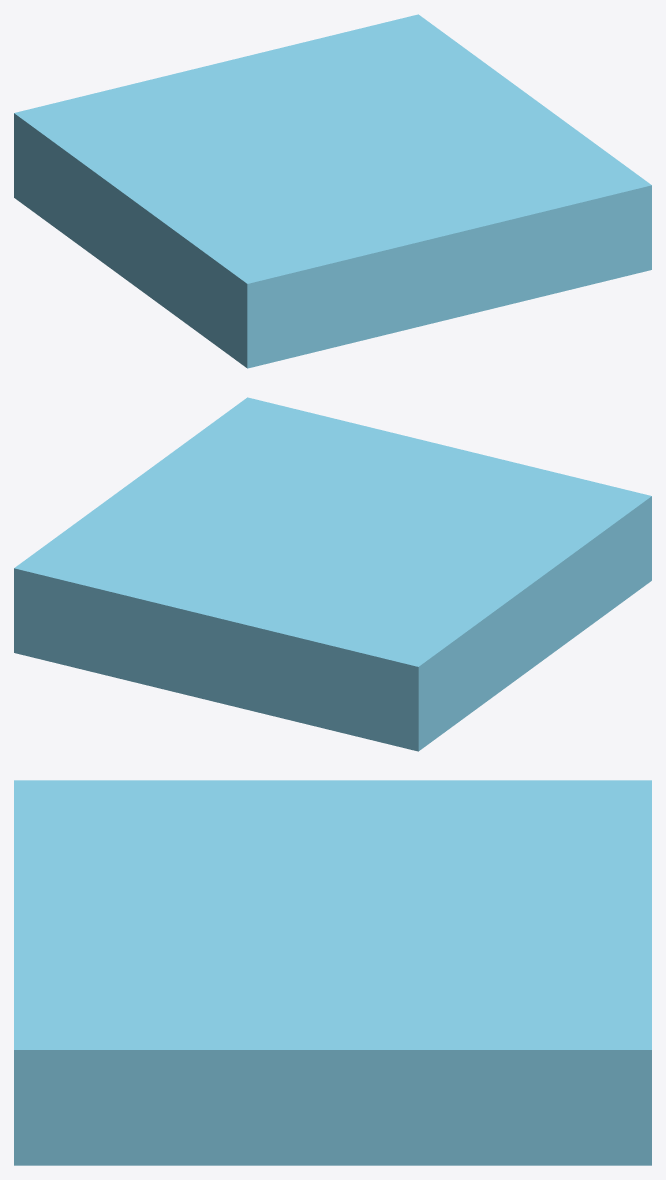
The model's file is Glass.fbx.
The picture shows the model from 3 angles, top to bottom: view 1: azimuth 30°, elevation 25°; view 2: azimuth 150°, elevation 25°; view 3: azimuth 270°, elevation 25°; orthographic projection. The views are drawn at different scales.
Visible parts, largest first — view 1: Cube, BaseBlockPart5, BaseBlockPart2, BaseBlockPart6, BaseBlockPart8, BaseBlockPart3, BaseBlockPart1, BaseBlockPart7; view 2: Cube, BaseBlockPart2, BaseBlockPart5, BaseBlockPart3, BaseBlockPart7, BaseBlockPart1, BaseBlockPart8, BaseBlockPart6, BaseBlockPart4; view 3: Cube, BaseBlockPart5, BaseBlockPart3, BaseBlockPart2, BaseBlockPart7, BaseBlockPart8, BaseBlockPart6, BaseBlockPart4.
Boxes of the visible parts, x1,y1,x2,y2 form: Cube: [22, 14, 645, 283]; BaseBlockPart5: [173, 146, 514, 368]; BaseBlockPart2: [14, 44, 297, 289]; BaseBlockPart6: [303, 185, 529, 354]; BaseBlockPart8: [472, 163, 651, 299]; BaseBlockPart3: [214, 45, 472, 167]; BaseBlockPart1: [101, 177, 192, 326]; BaseBlockPart7: [333, 97, 555, 158]; Cube: [14, 397, 576, 751]; BaseBlockPart2: [137, 566, 544, 751]; BaseBlockPart5: [233, 465, 651, 621]; BaseBlockPart3: [48, 527, 430, 582]; BaseBlockPart7: [126, 465, 353, 527]; BaseBlockPart1: [505, 551, 595, 658]; BaseBlockPart8: [190, 397, 369, 464]; BaseBlockPart6: [341, 427, 524, 465]; BaseBlockPart4: [157, 442, 231, 465]; Cube: [14, 780, 651, 1165]; BaseBlockPart5: [14, 780, 320, 1010]; BaseBlockPart3: [305, 843, 651, 1049]; BaseBlockPart2: [361, 780, 651, 969]; BaseBlockPart7: [216, 907, 487, 1049]; BaseBlockPart8: [14, 957, 214, 1049]; BaseBlockPart6: [14, 865, 125, 968]; BaseBlockPart4: [182, 1011, 268, 1049].
Size of the model in its own units: 5 by 1 by 5.
